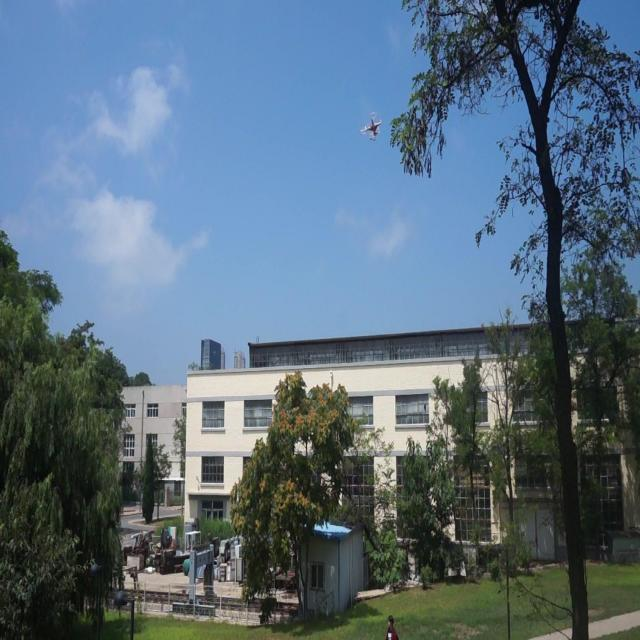UAV: (360, 108, 383, 140)
